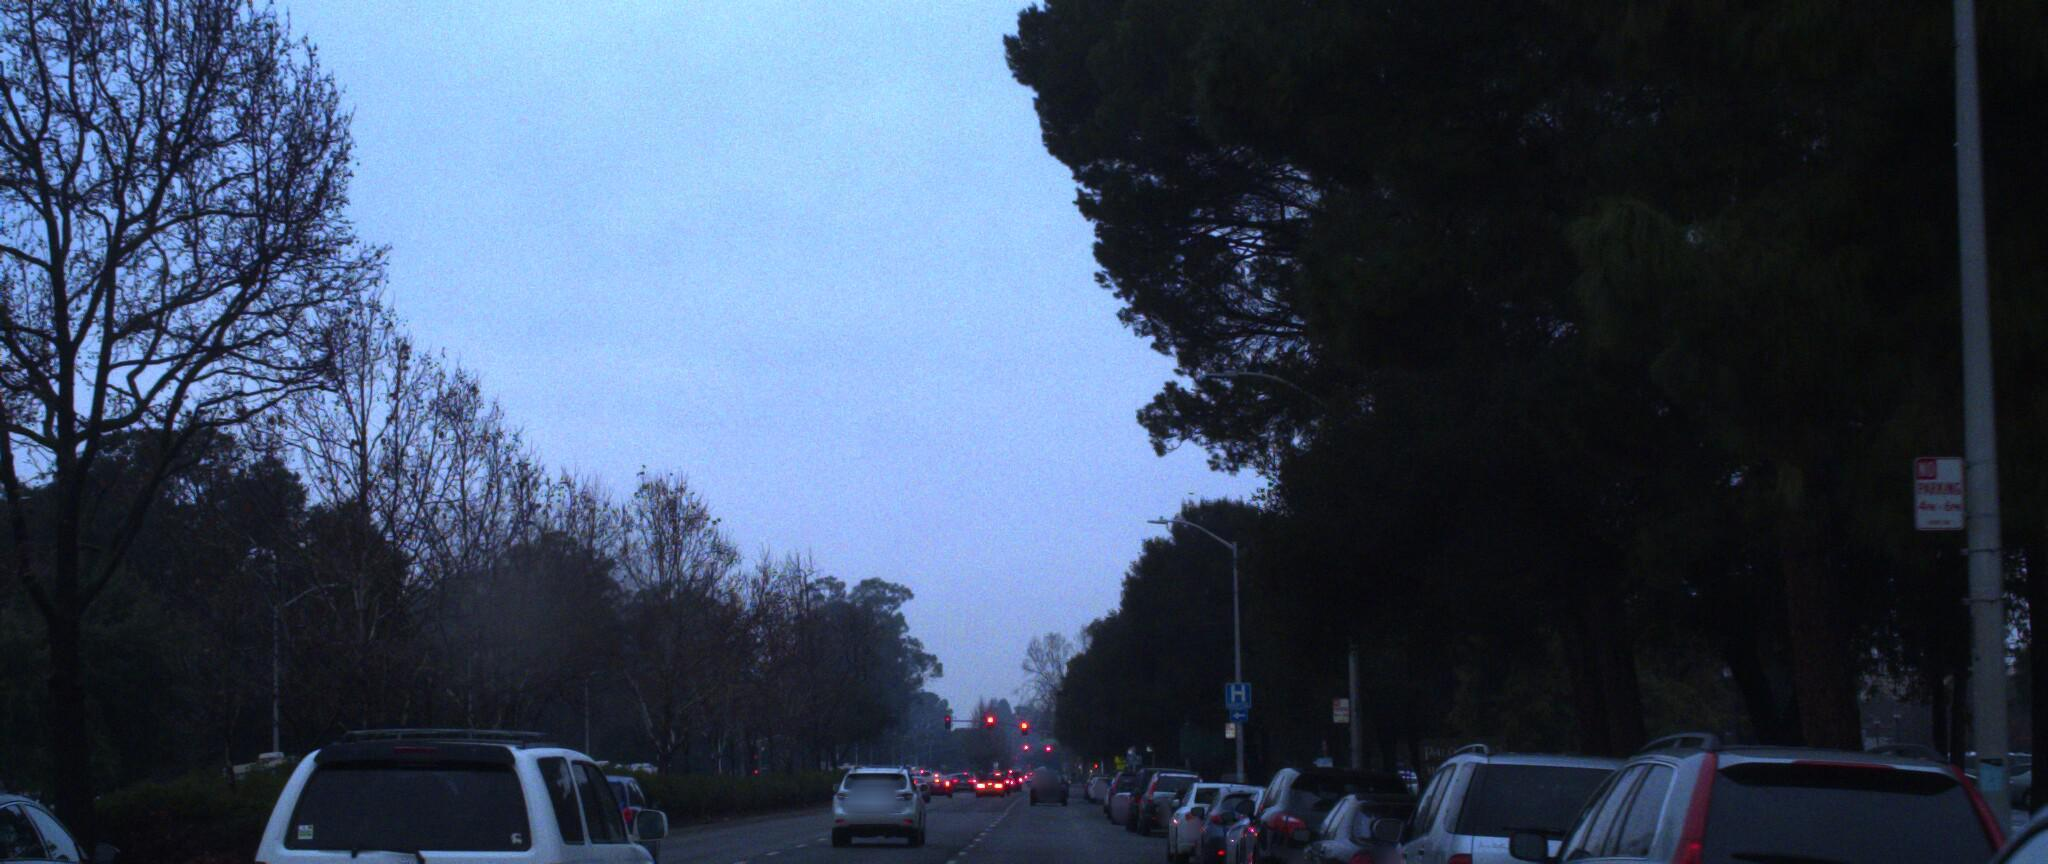car: (1489, 719, 2048, 864), (225, 731, 688, 864), (1354, 714, 1738, 864), (1772, 748, 2048, 864), (1273, 764, 1556, 864), (1226, 743, 1442, 864), (0, 777, 175, 864), (1183, 762, 1324, 864), (525, 764, 667, 864), (1155, 760, 1289, 864), (819, 748, 923, 835), (1125, 749, 1209, 825)
other_vehicle: (0, 737, 3, 857)
